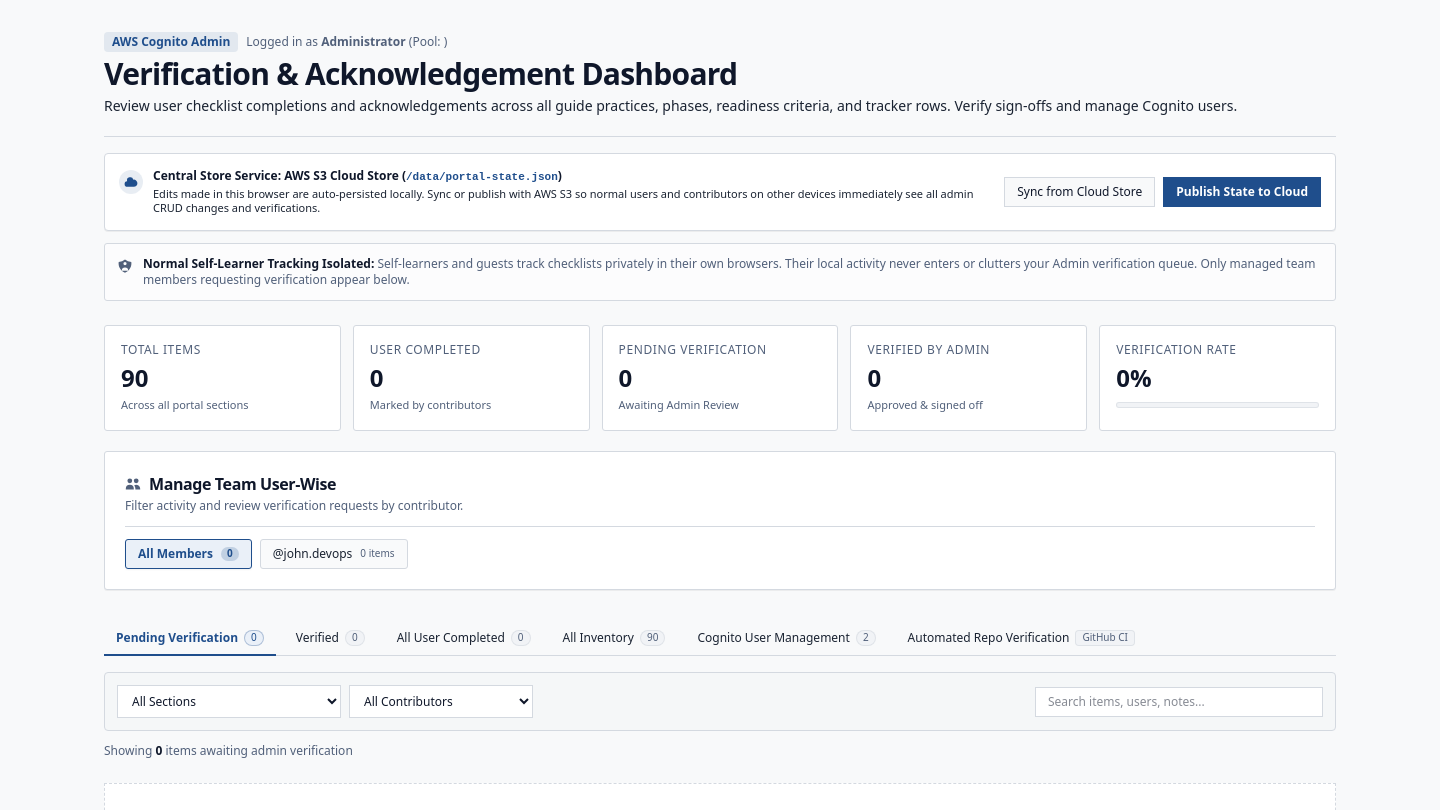
Test case: Admin Verification & Acknowledgement Dashboard › Cognito User Management tab › masks the root admin password and prevents modifying root admin
Note: Click on Cognito User Management tab
Step 1. Click the button "Cognito User Management 2" → (786, 639), box left=685, top=622, right=888, bottom=656
(page scrolled)
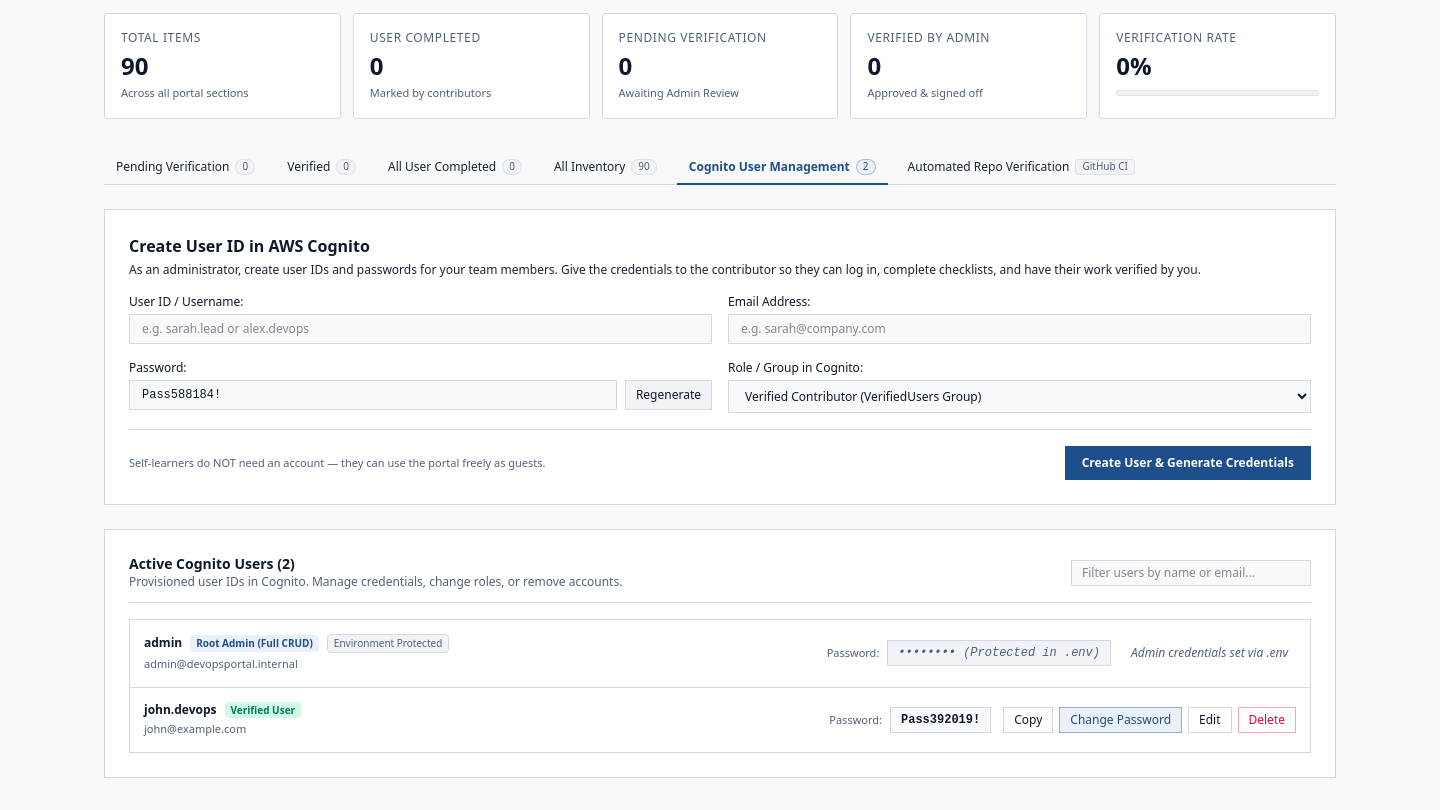
expect the text "•••••••• (Protected in .env)" is shown: met, box left=887, top=640, right=1111, bottom=666
expect the text "Environment Protected" is shown: met, box left=327, top=634, right=449, bottom=653
expect the text "Admin credentials set via .env" is shown: met, box left=1123, top=641, right=1296, bottom=665
